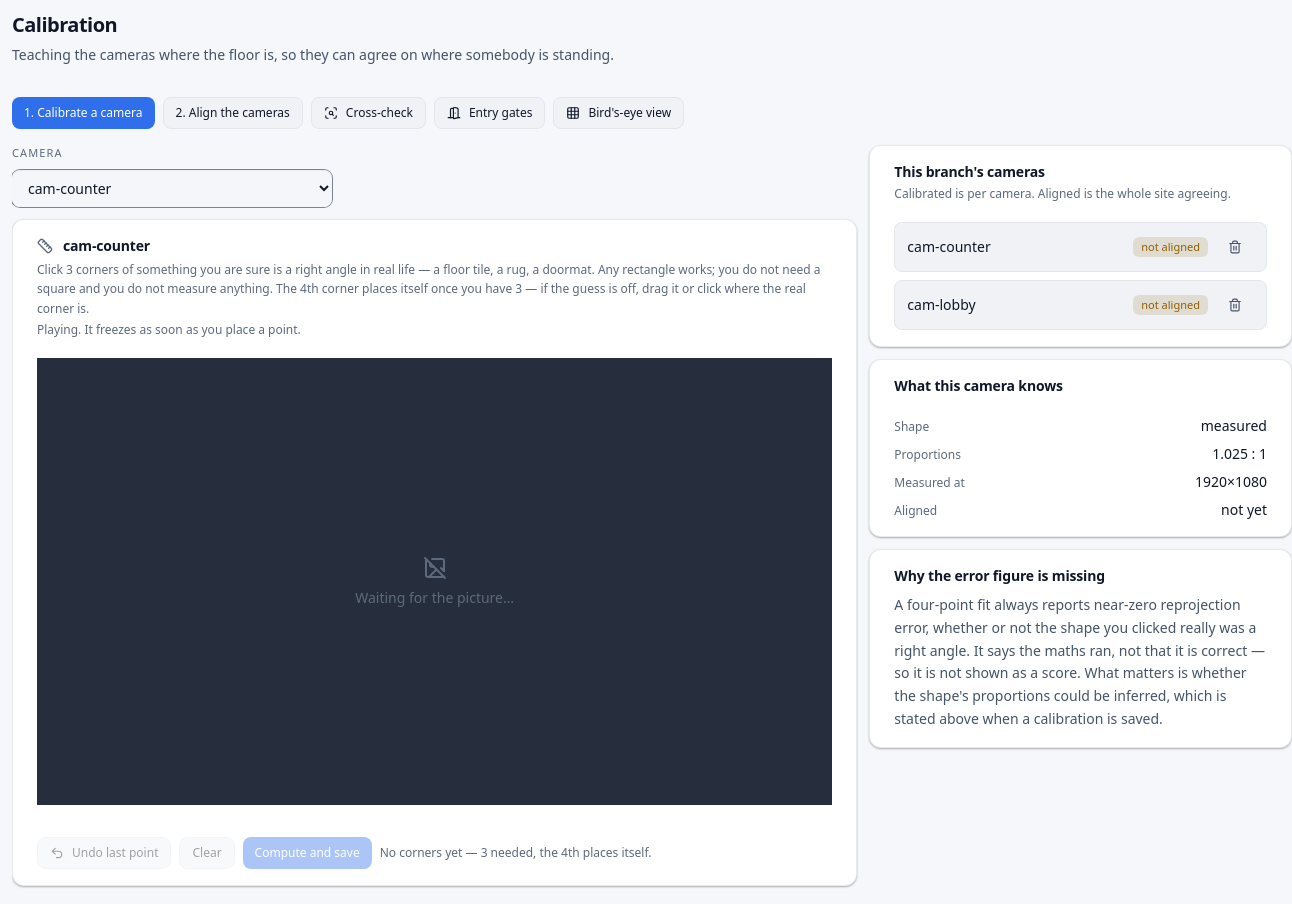
Test: Calibration › offers both canvases once two cameras are calibrated
Check: the text "not aligned" is shown 2 times, box [1133,237,1208,257]; [1133,295,1208,315]
Click the button "2. Align the cameras": (233,113) [162,97,303,129]
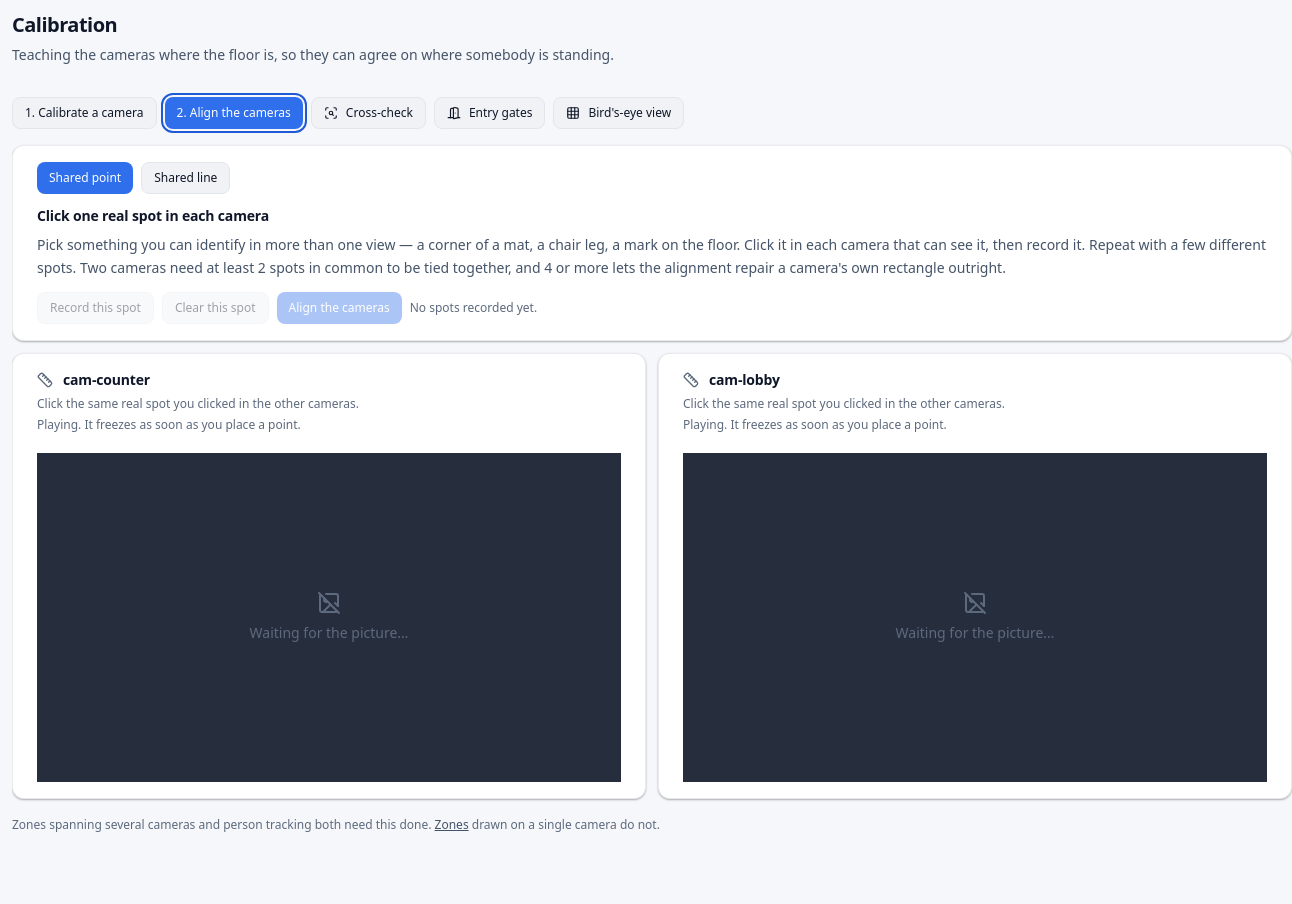
Check: the heading "cam-lobby" is shown, box [709,370,780,390]
Check: the heading "Click one real spot in each camera" is shown, box [37,206,269,225]
Check: the button "Align the cameras" is disabled, box [277,292,402,324]
